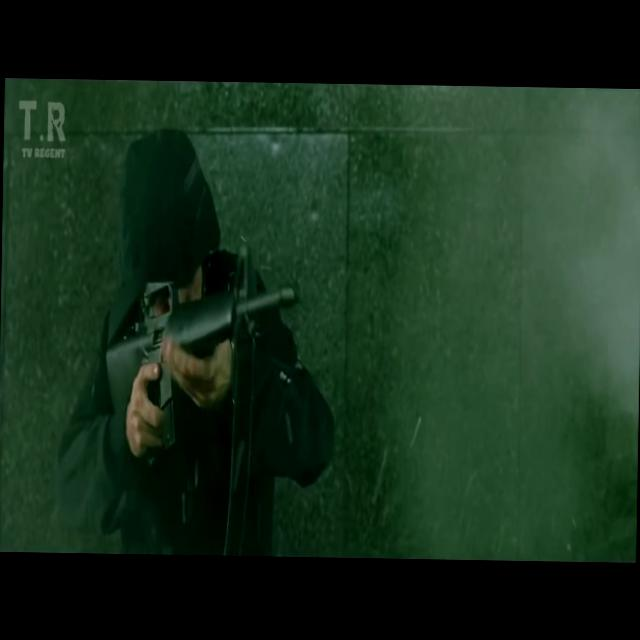long weapon: (100, 220, 334, 483)
